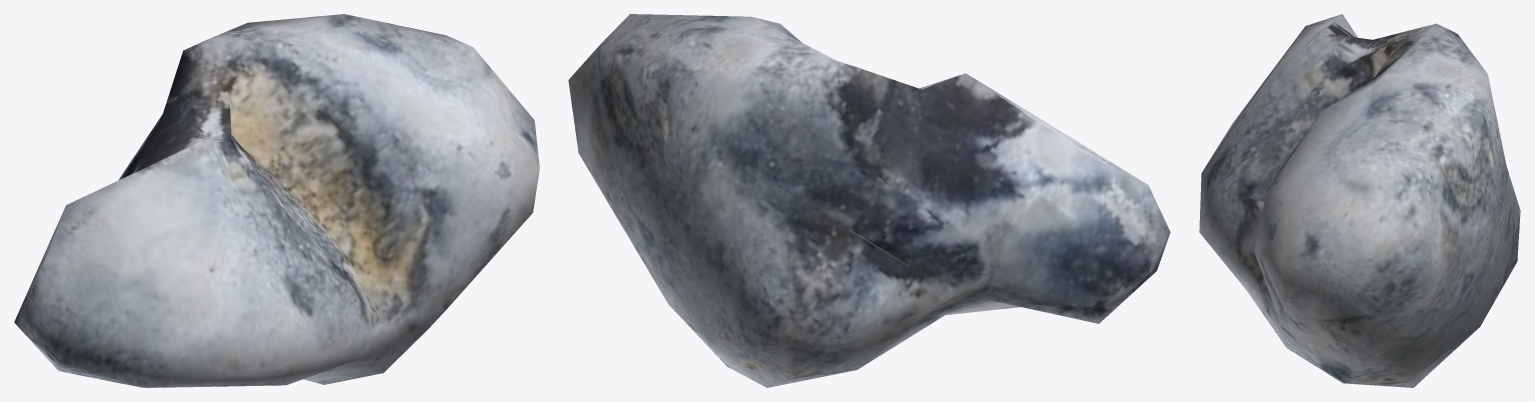
3 renders of one model, left to right at view 1: azimuth 30°, elevation 25°; view 2: azimuth 150°, elevation 25°; view 3: azimuth 270°, elevation 25°, orthographic. The views are drawn at different scales.
Parts seen in each view (by area): view 1: rock088_lod4; view 2: rock088_lod4; view 3: rock088_lod4.
Part boxes in pixels (<box>): rock088_lod4: <box>14,14,539,387</box>; rock088_lod4: <box>568,14,1170,387</box>; rock088_lod4: <box>1199,14,1520,387</box>.
Size of the model in its own units: 1 by 0.6007 by 0.5629.
Materials: 1 (1 with a texture image).
